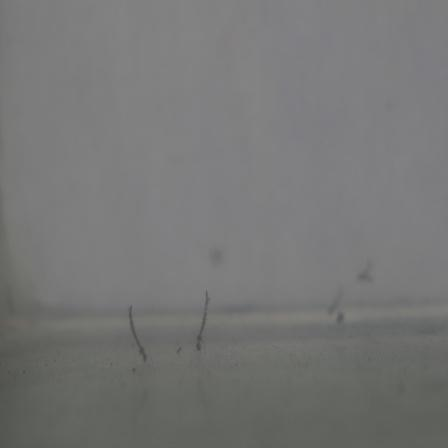Jentik-Nyamuk: (124, 303, 153, 365), (192, 289, 214, 355)
